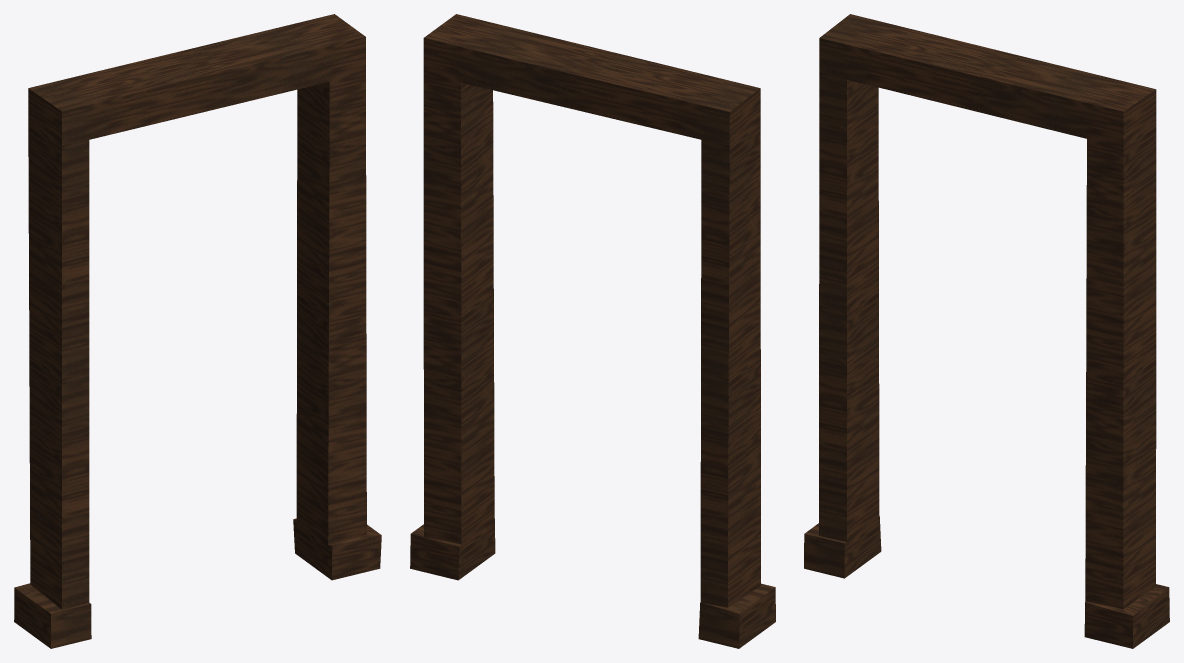
File: Threshold.fbx
3 renders of one model, left to right at view 1: azimuth 30°, elevation 25°; view 2: azimuth 150°, elevation 25°; view 3: azimuth 330°, elevation 25°, orthographic.
Parts seen in each view (by area): view 1: Threshold; view 2: Threshold; view 3: Threshold.
Boxes of the visible parts, <box> form: Threshold: <box>14,14,381,648</box>; Threshold: <box>410,14,775,648</box>; Threshold: <box>804,14,1169,648</box>.
Bounding box in the file's own units: 1.48 × 2.28 × 0.2955.
1 material, 1 textured.
